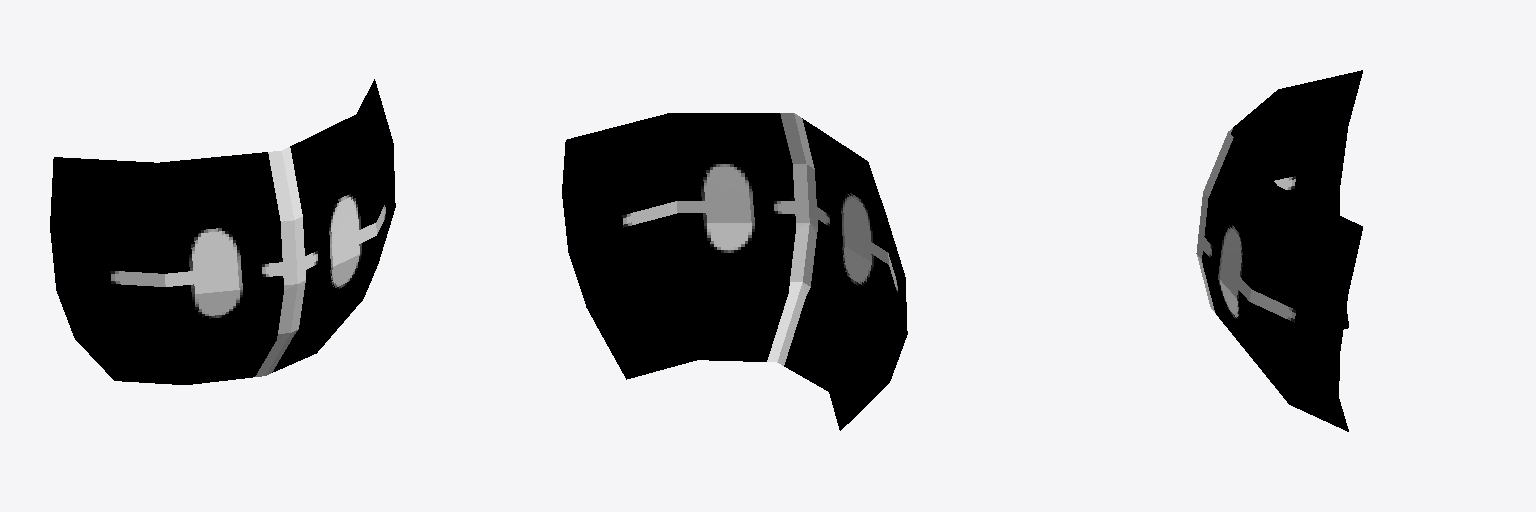
3 views of the same model, side by side, from view 1: azimuth 30°, elevation 25°; view 2: azimuth 150°, elevation 25°; view 3: azimuth 270°, elevation 25° (orthographic).
Parts seen in each view (by area): view 1: polygon0; view 2: polygon0; view 3: polygon0.
Part boxes in pixels (x1,y1,x2,y2): polygon0: (50, 79, 395, 384); polygon0: (562, 113, 907, 430); polygon0: (1196, 70, 1362, 431).
Bounding box in the file's own units: 4.04 × 2.79 × 1.7.
Materials: 1 (1 with a texture image).